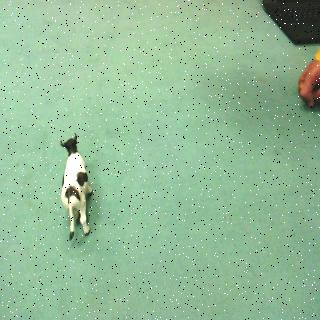cow: (48, 131, 96, 251)
